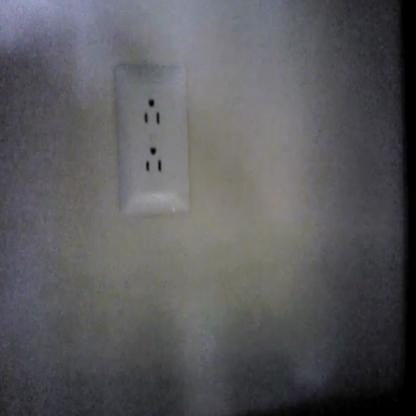OUTLET: (117, 63, 187, 218)
